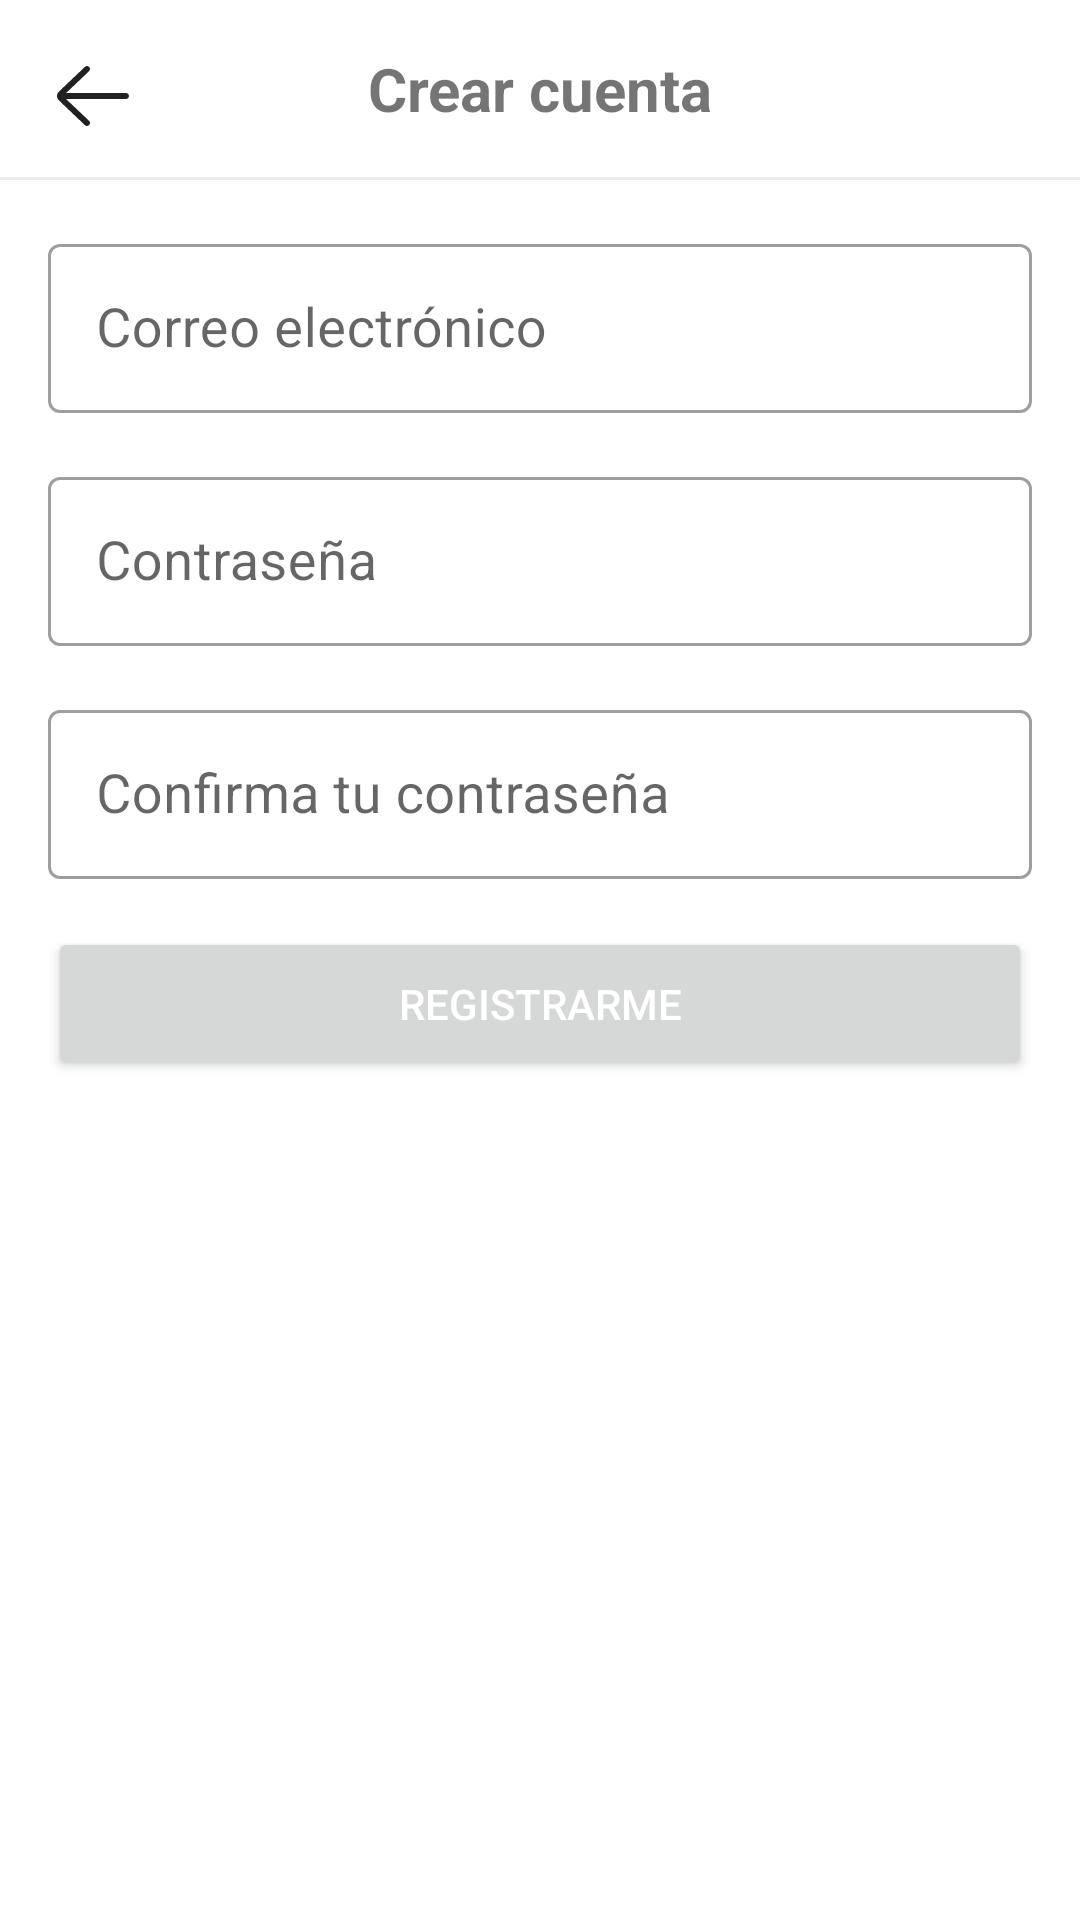

Where icons sit on this 1080 × 1920 app screen, as (x1, y1, x2, y2):
left arrow: (57, 66, 129, 126)
